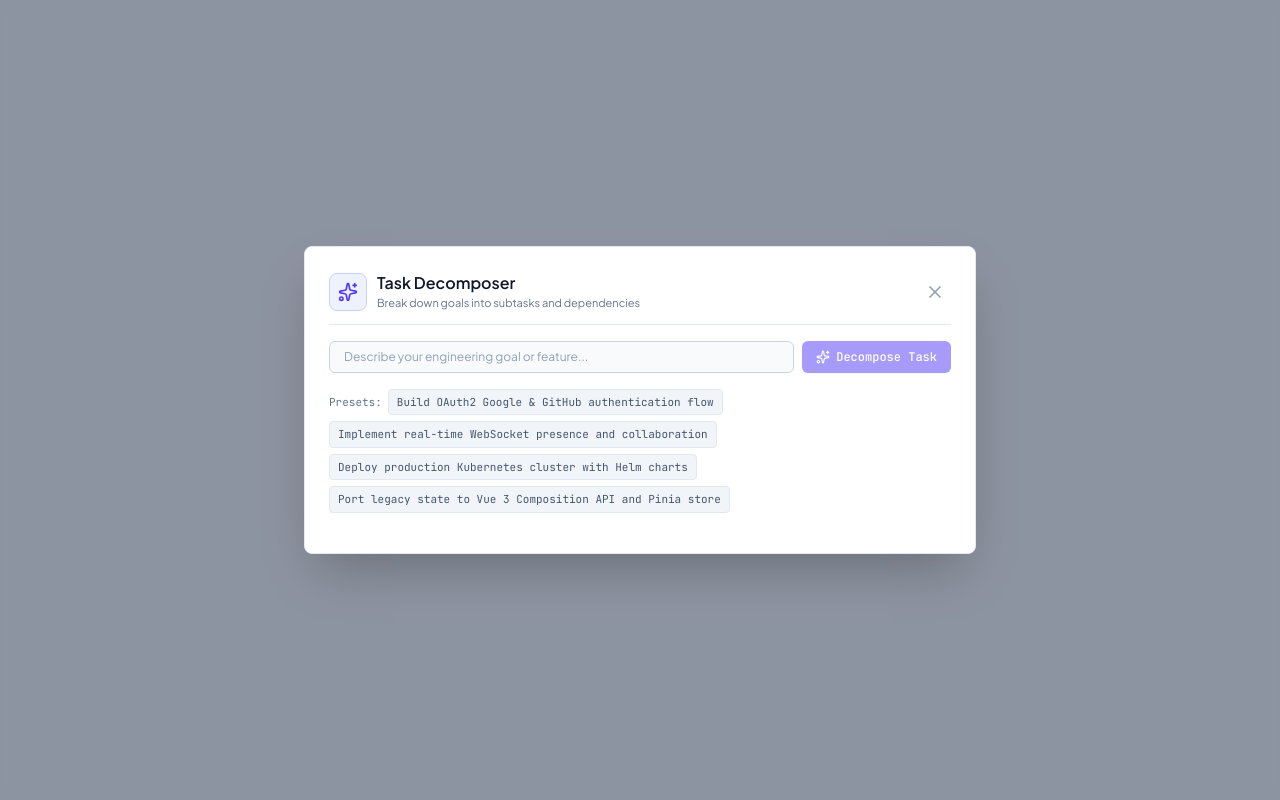
Test: AIDecomposerModal › surfaces a failure instead of appearing to succeed
The image size is (1280, 800).
In the field with placeholder "Describe your engineering goal or feature...": (562, 357) [329,341,794,373], type "Ship billing"
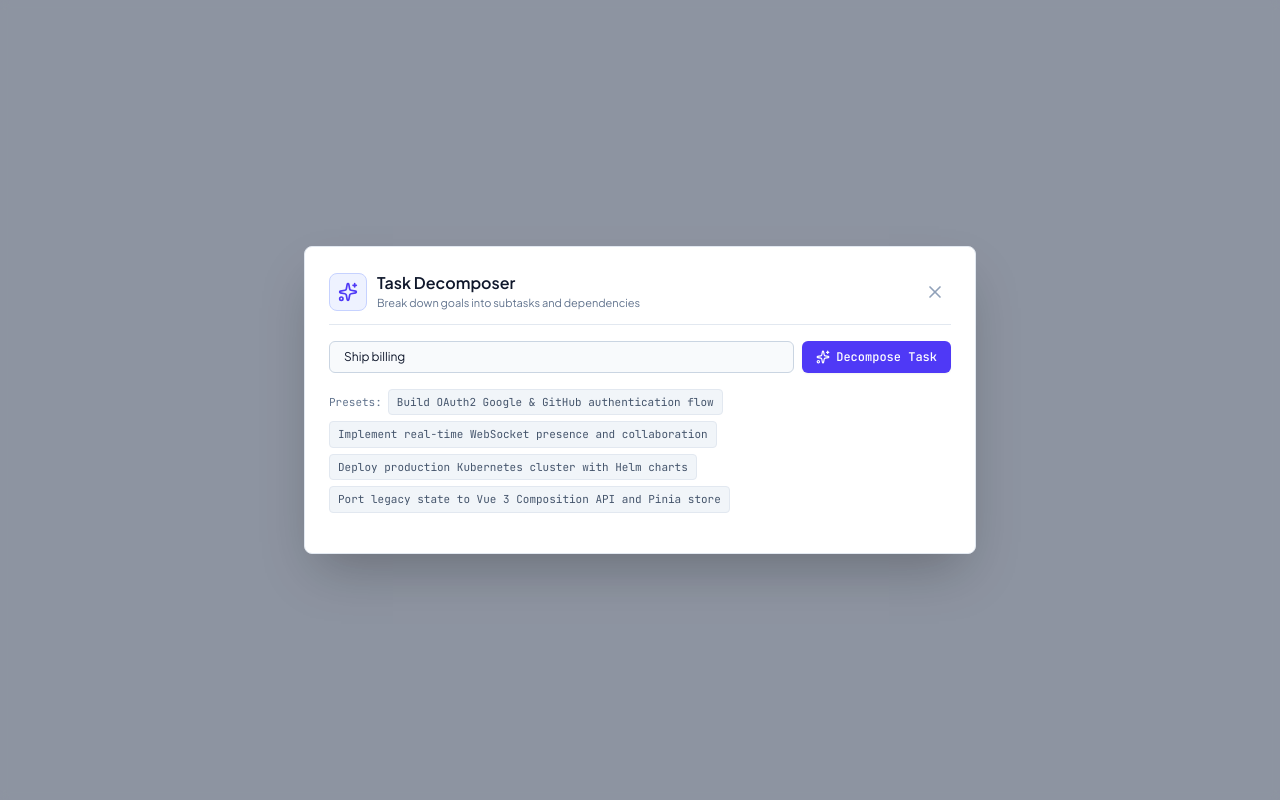
Click the button "Decompose Task": (877, 357) [802,341,951,373]
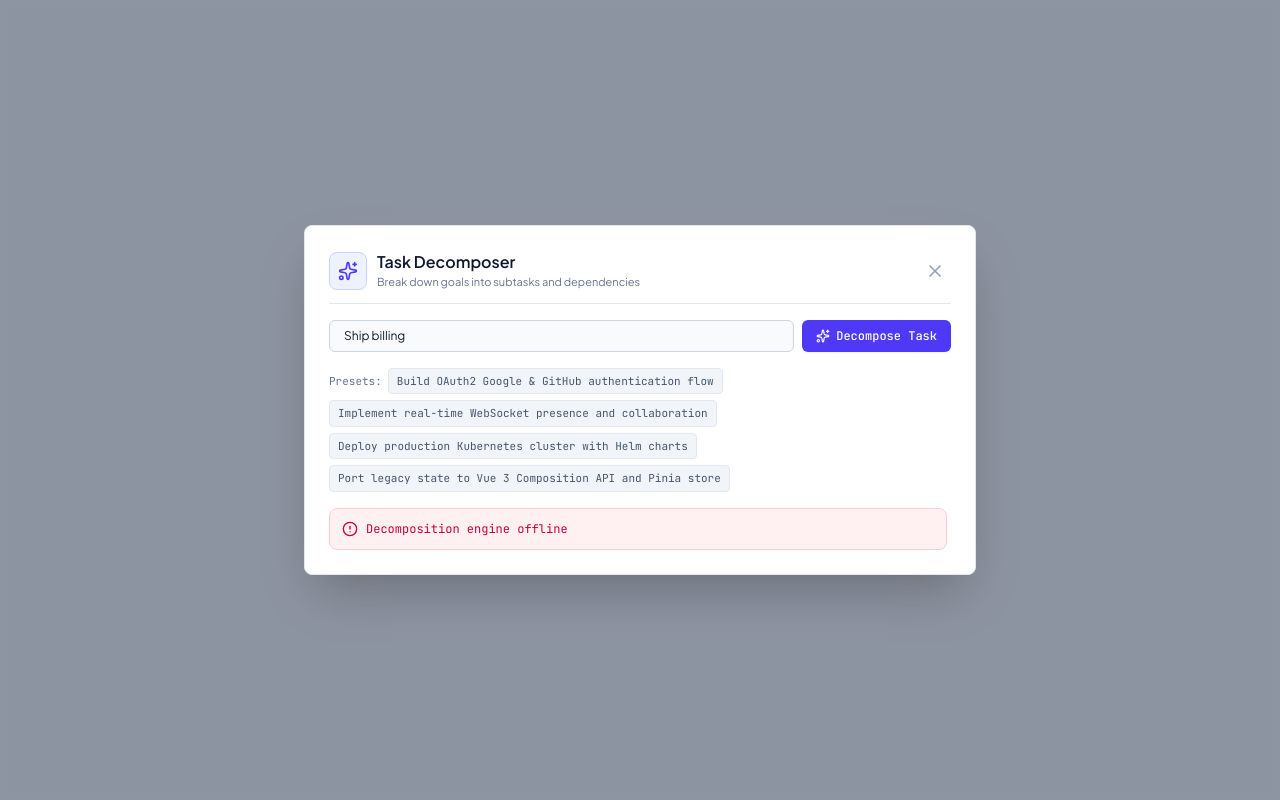
Expected: the text "Decomposition engine offline" is shown, [366,521,568,537]
